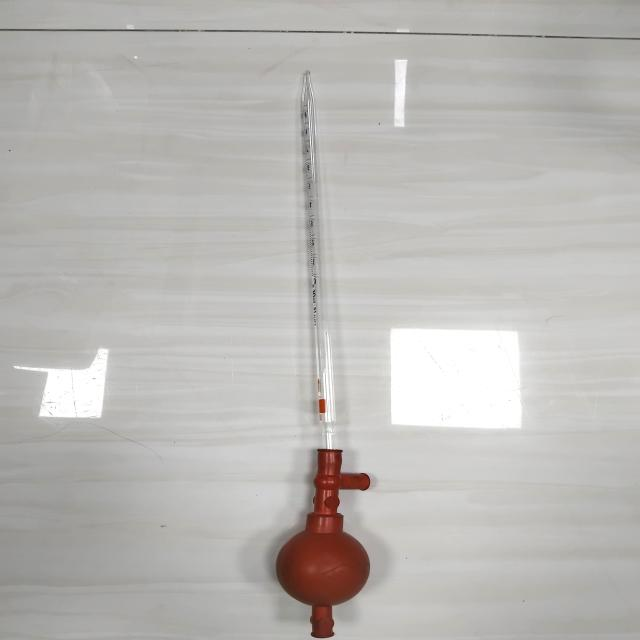Volumetric_Pipet: (241, 57, 431, 639)
